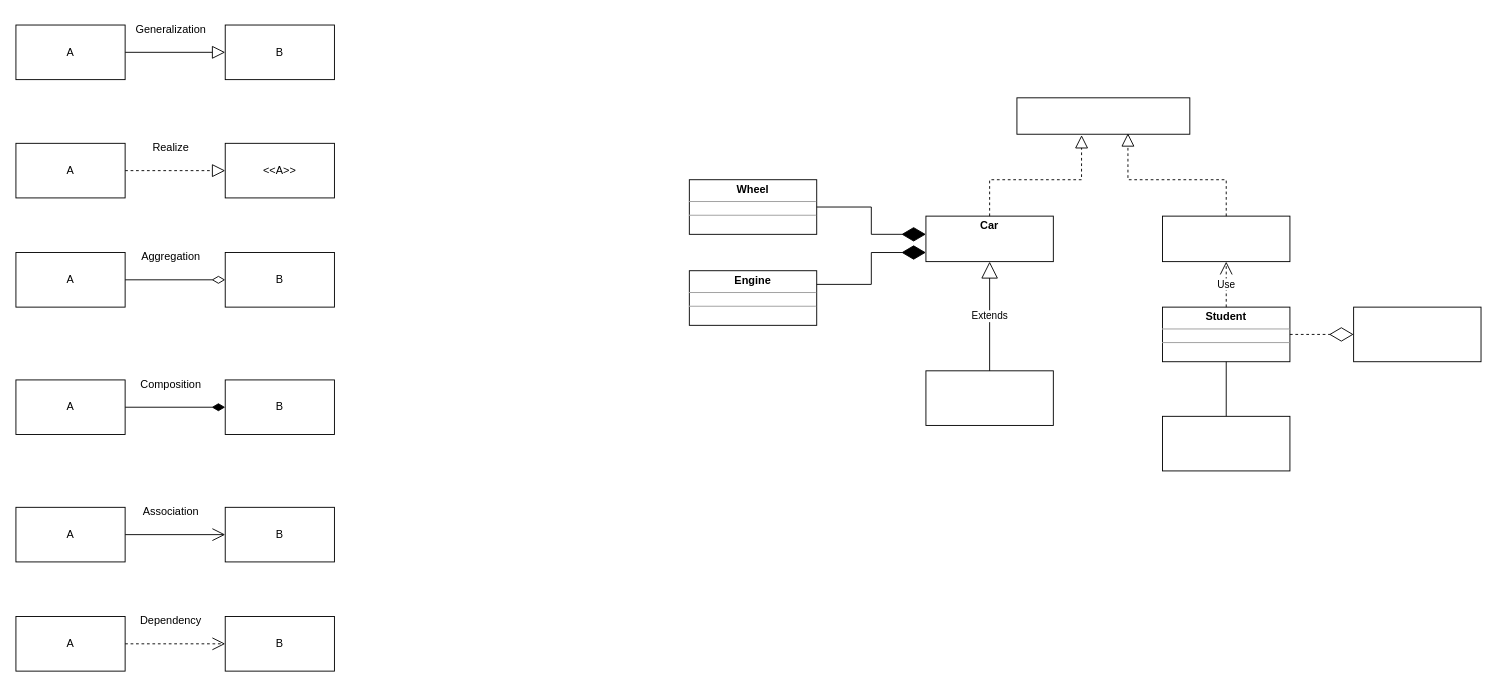
This 1497x687 diagram has some shape labels left out. Here are the shapes that lost their labels. From the top down, the box of each, then its label:
(1016, 97, 1190, 134): <<abstract>> Vehicle
(1162, 215, 1290, 262): Bicycle
(1353, 306, 1481, 362): Class
(925, 370, 1053, 425): SUV
(1162, 415, 1290, 471): ID
